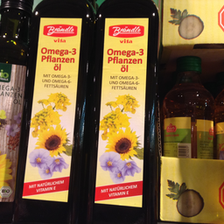oil: (15, 1, 90, 224), (89, 2, 160, 224), (162, 54, 214, 158)
